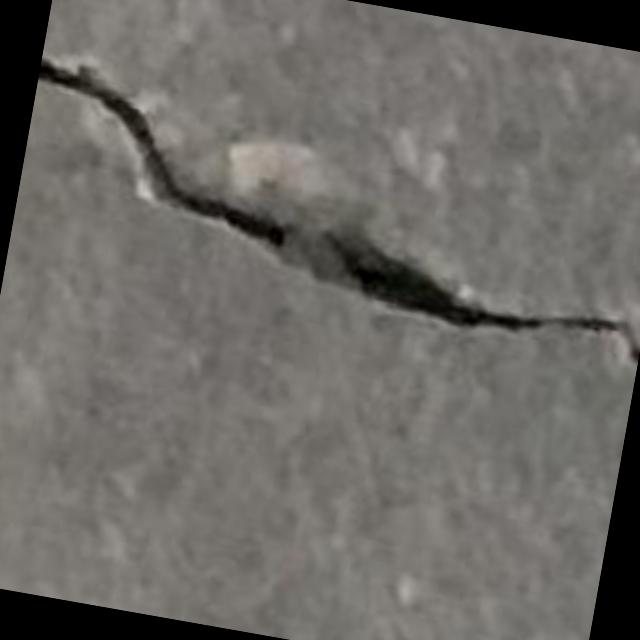crack: (38, 57, 639, 362)
